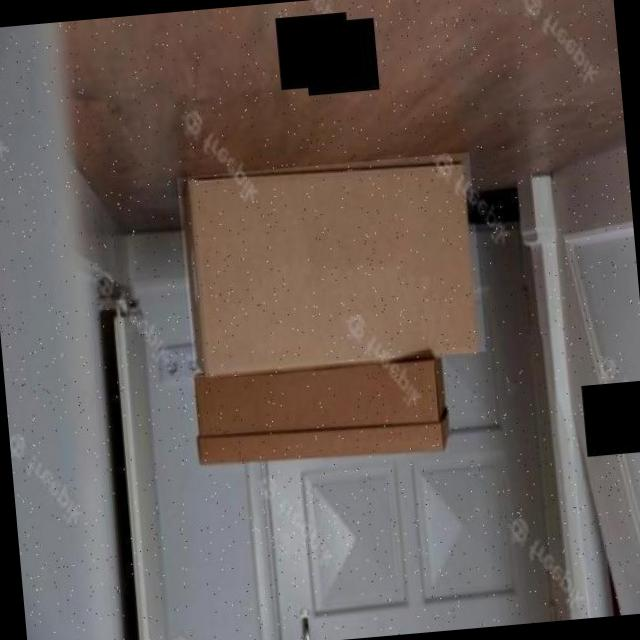box: (176, 152, 486, 377), (187, 353, 452, 476)
